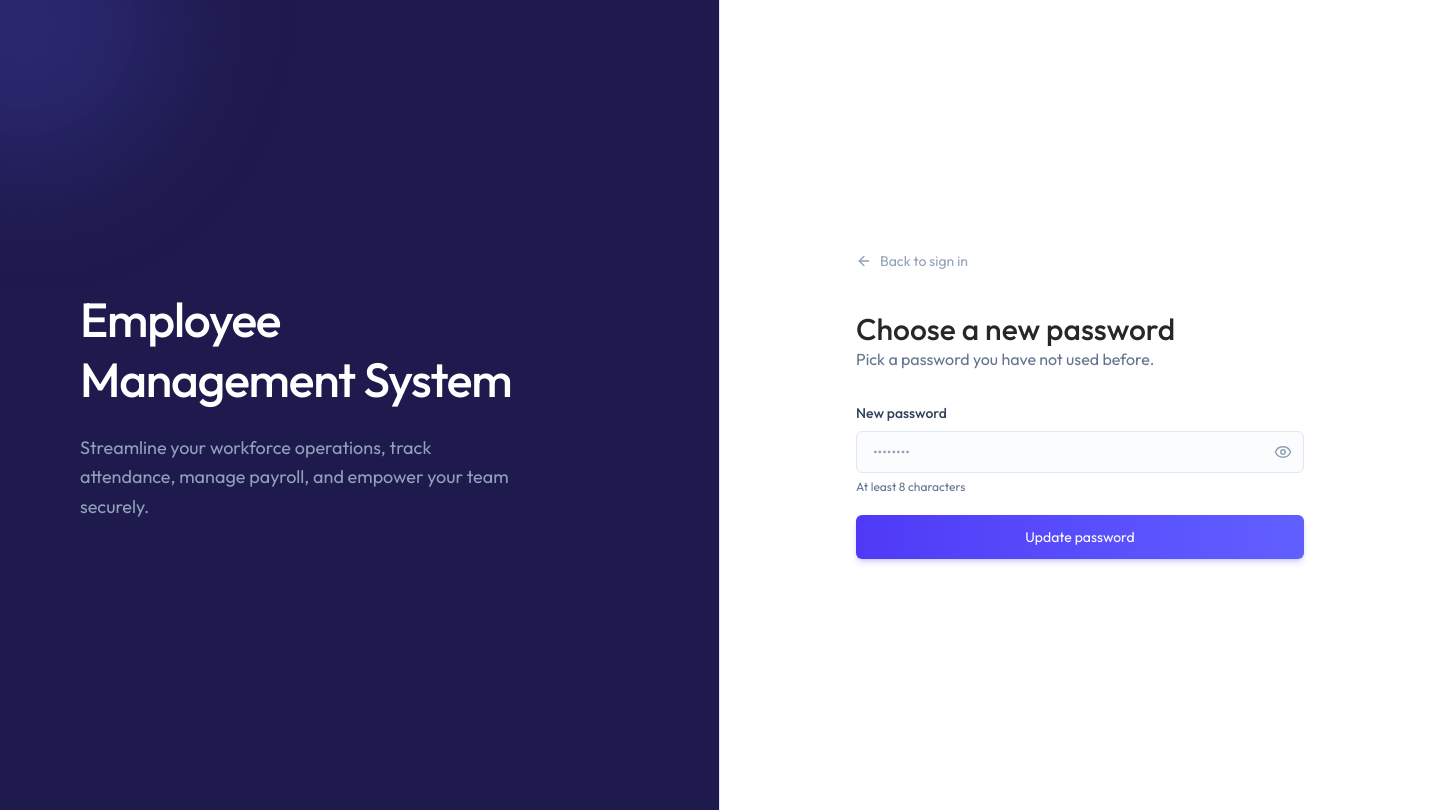
Test: ResetPasswordForm › validates the length before calling the API
The image size is (1440, 810).
Type "short" into the password field labelled "New password" at [1080, 452], box [856, 431, 1304, 473]
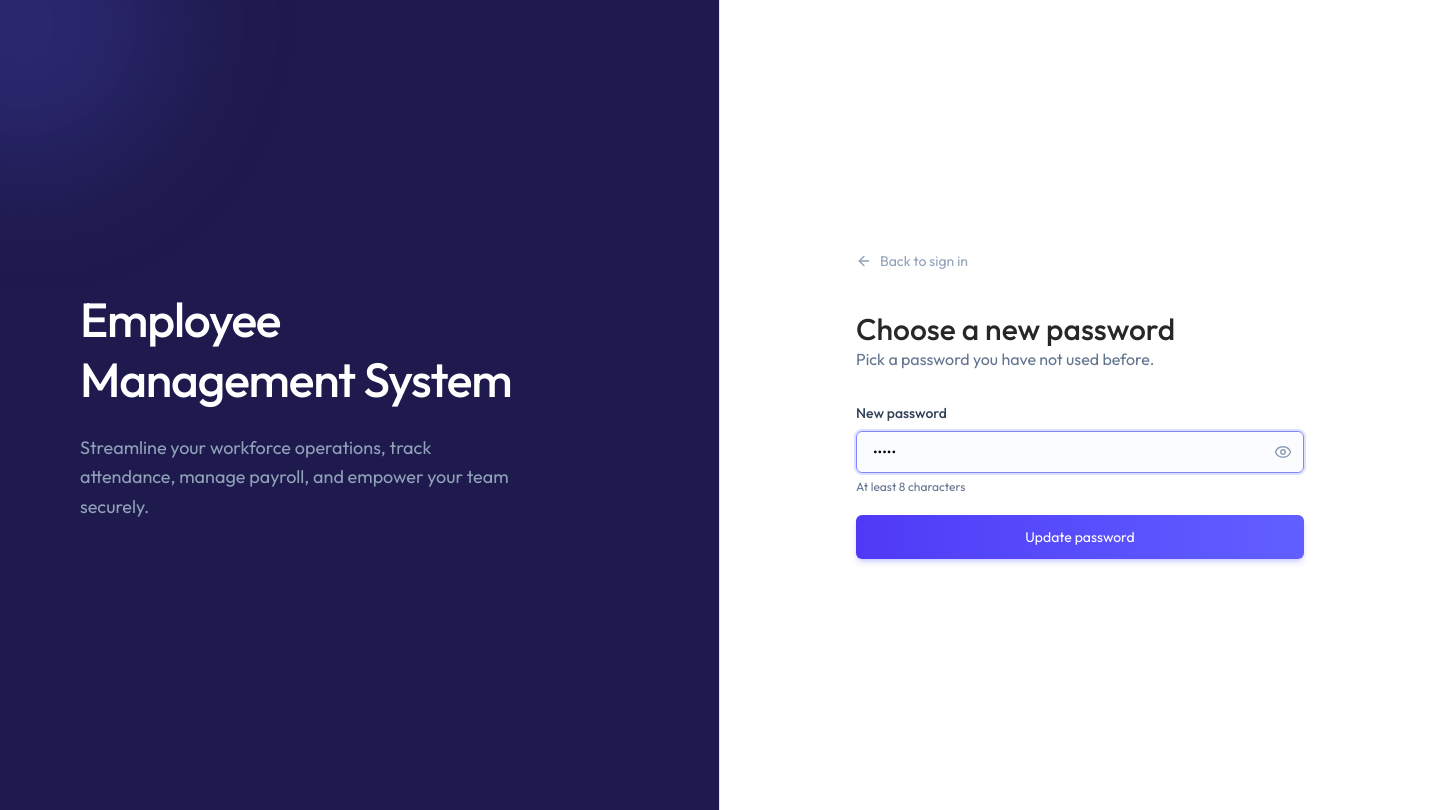
Click the button "Update password" at [1080, 537], box [856, 515, 1304, 559]
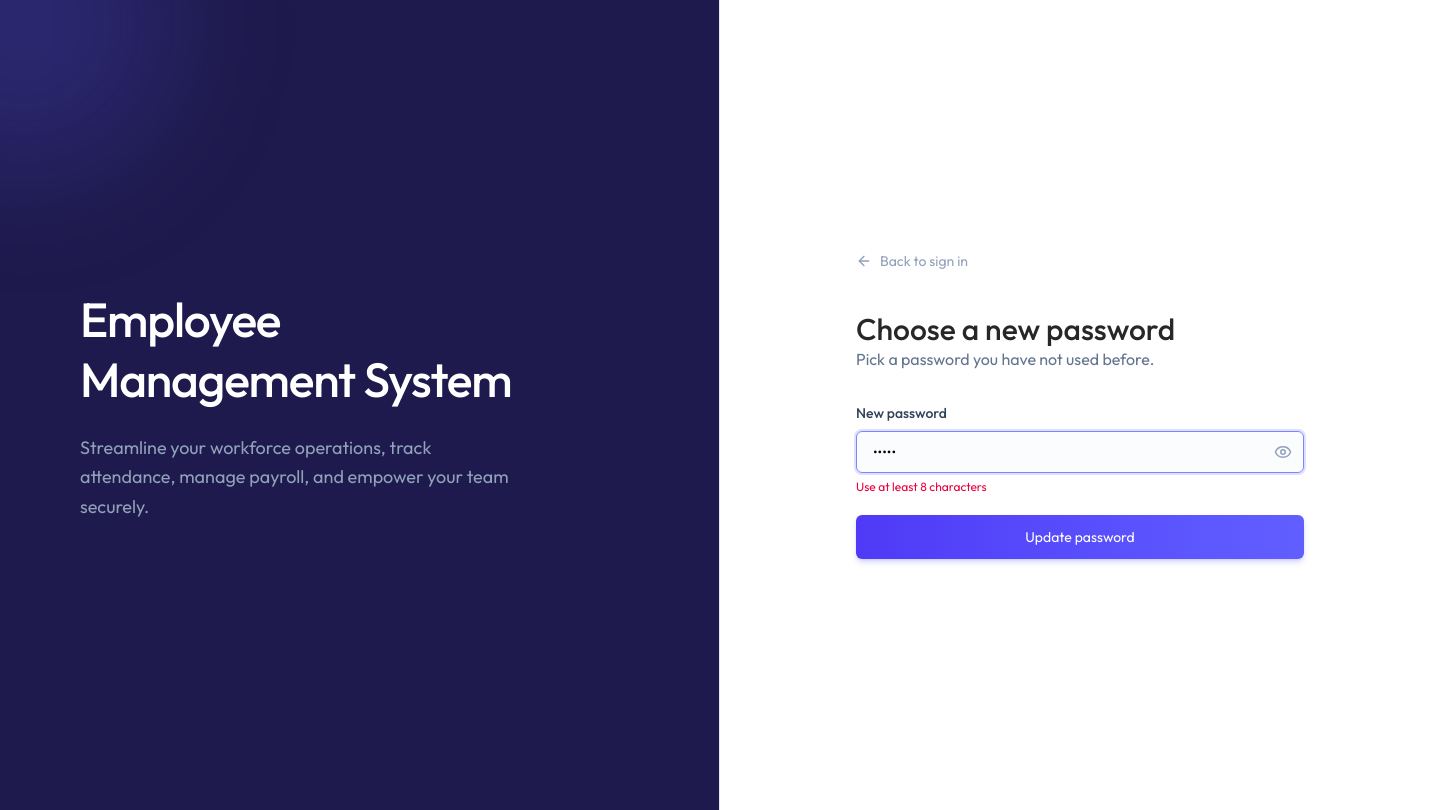
Check: the text "Use at least 8 characters" is shown, box [856, 479, 987, 494]
